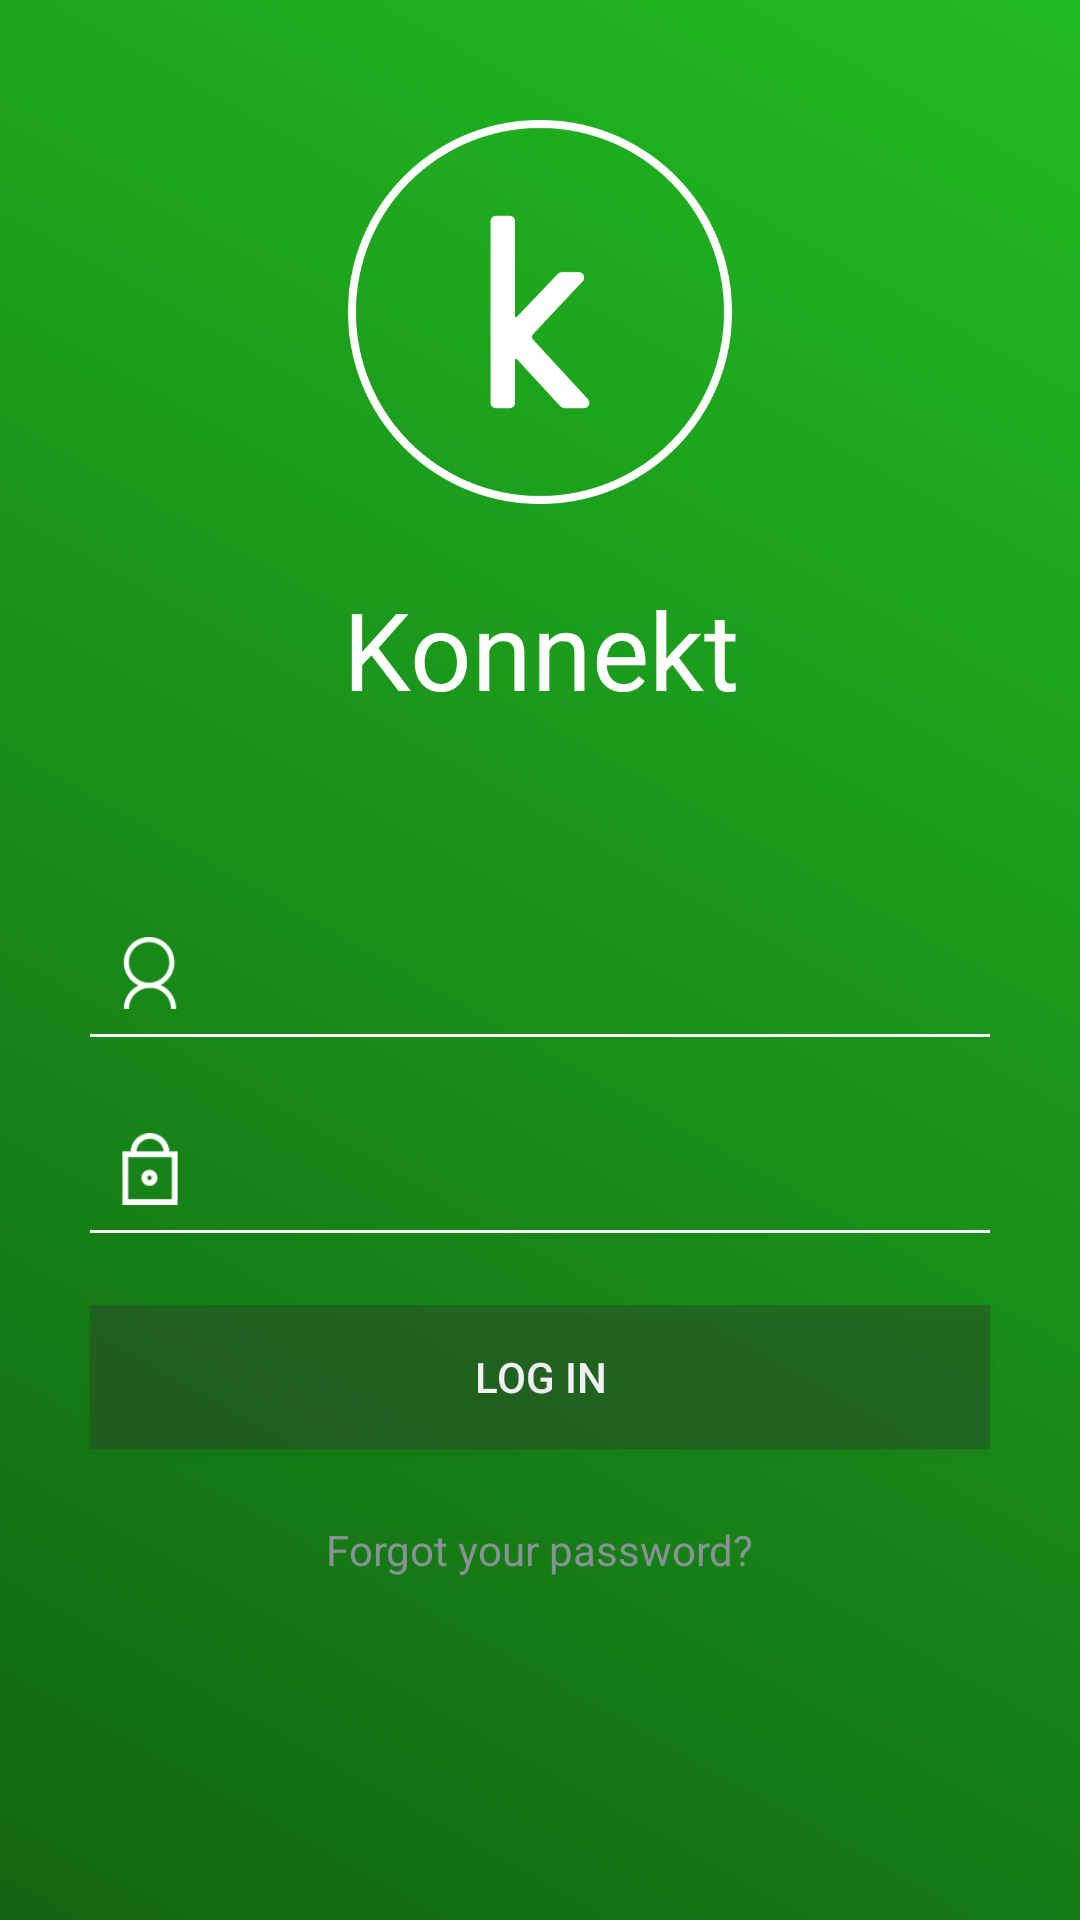

Icon click points for this 1080×1920 phone screenshot, format point (x, y):
password: point (150, 1169)
username: point (150, 973)
